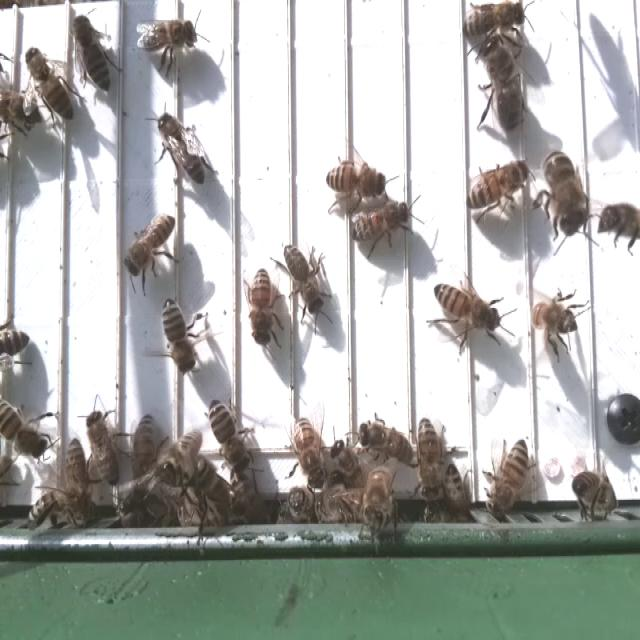Drone: (479, 31, 528, 139)
Worker: (542, 147, 590, 244), (156, 108, 210, 192), (24, 43, 76, 127), (431, 278, 502, 337), (122, 211, 180, 278), (463, 157, 532, 212), (72, 10, 114, 97), (208, 395, 251, 479), (282, 241, 328, 319), (348, 199, 413, 250), (291, 410, 329, 493), (162, 294, 199, 378), (85, 404, 122, 488), (489, 437, 530, 512), (322, 159, 388, 205), (528, 291, 581, 345), (461, 0, 529, 42), (414, 412, 444, 504), (135, 15, 199, 58), (354, 415, 409, 463), (248, 263, 277, 352)
